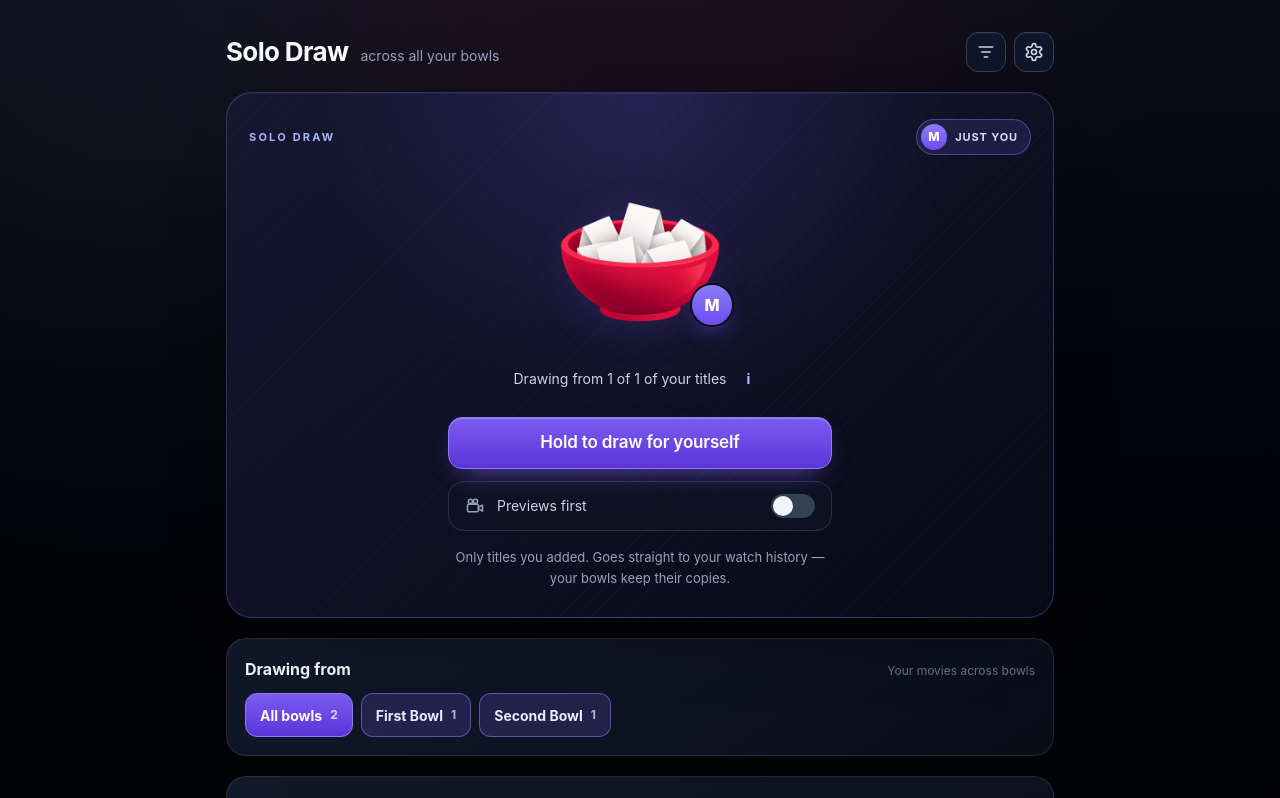
Test: SoloDrawPage › asks for a bowl when the scope is empty
Click the button with aria-label "First Bowl, 1 title" at (416, 715), box 361,693 -> 471,737
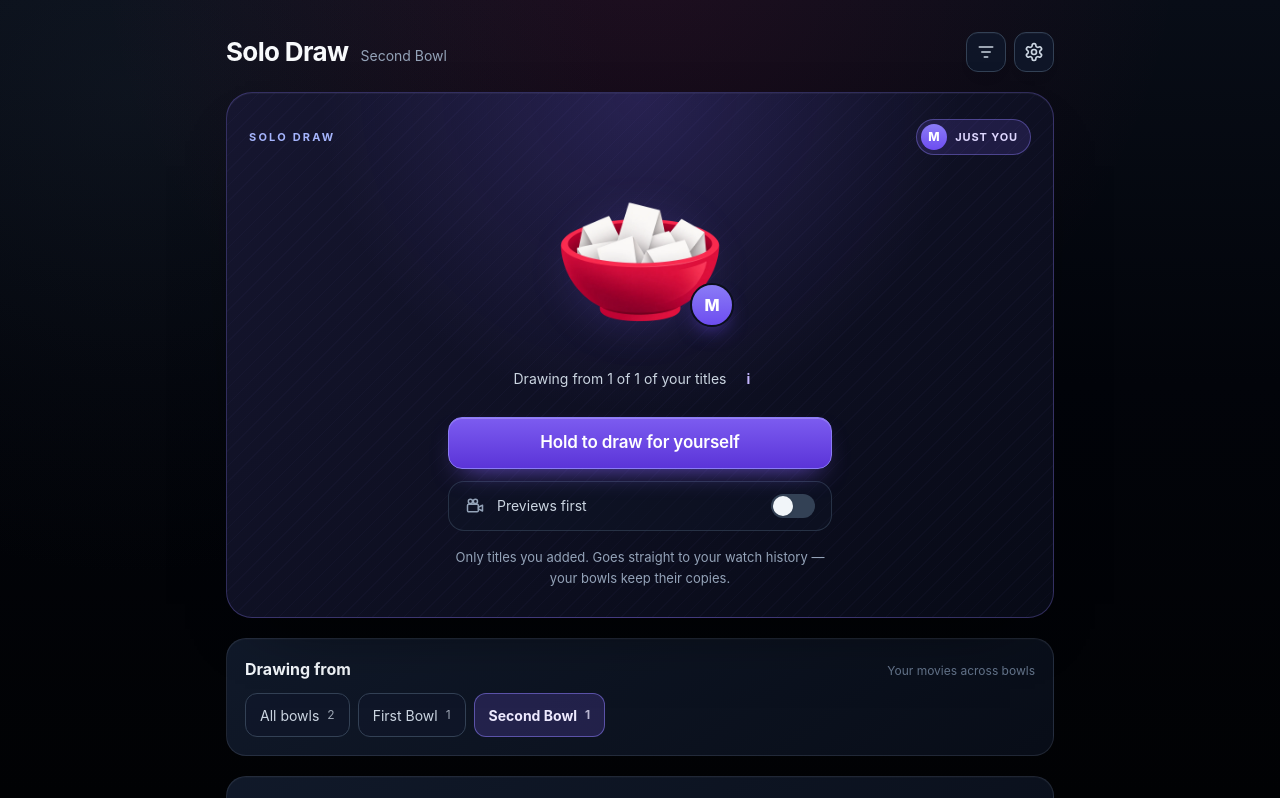
Click the button with aria-label "Second Bowl, 1 title" at (539, 715), box 474,693 -> 605,737
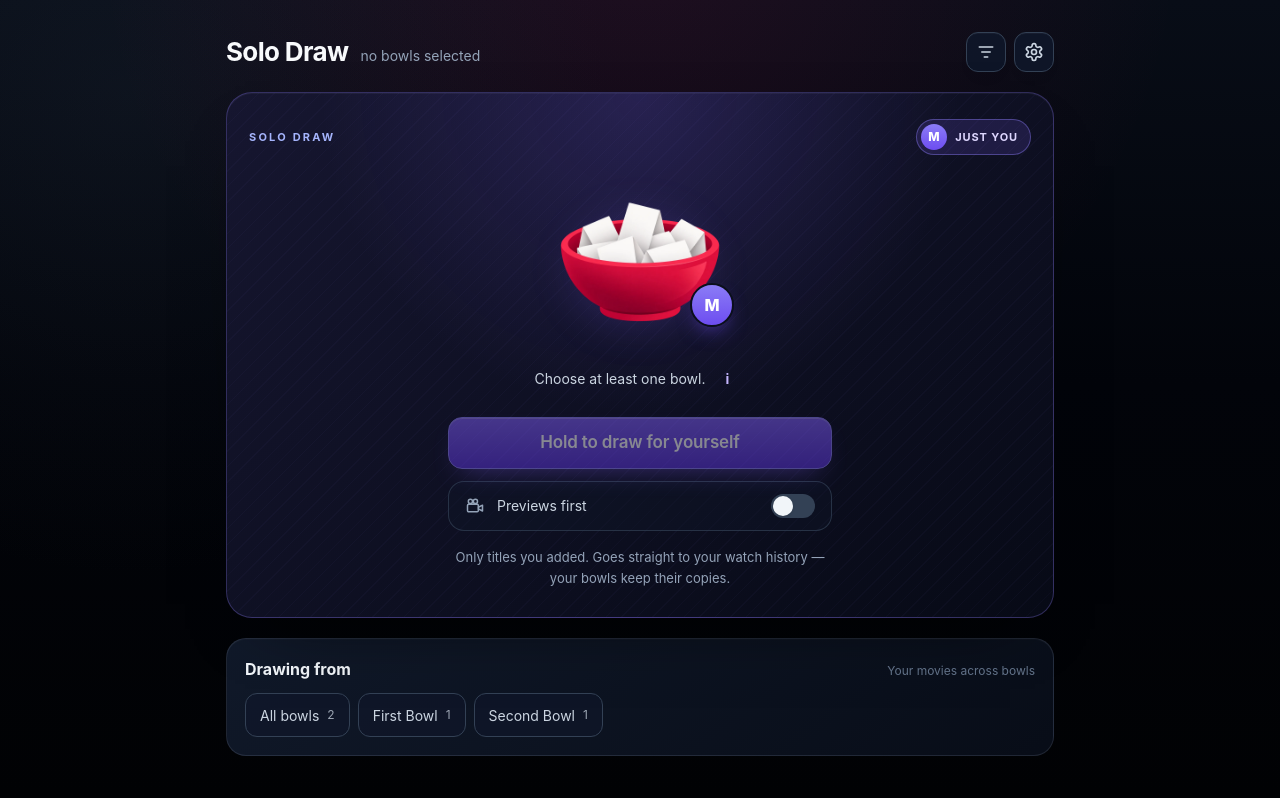
Check: the text "Choose at least one bowl." is shown, box 534,370 -> 706,387
